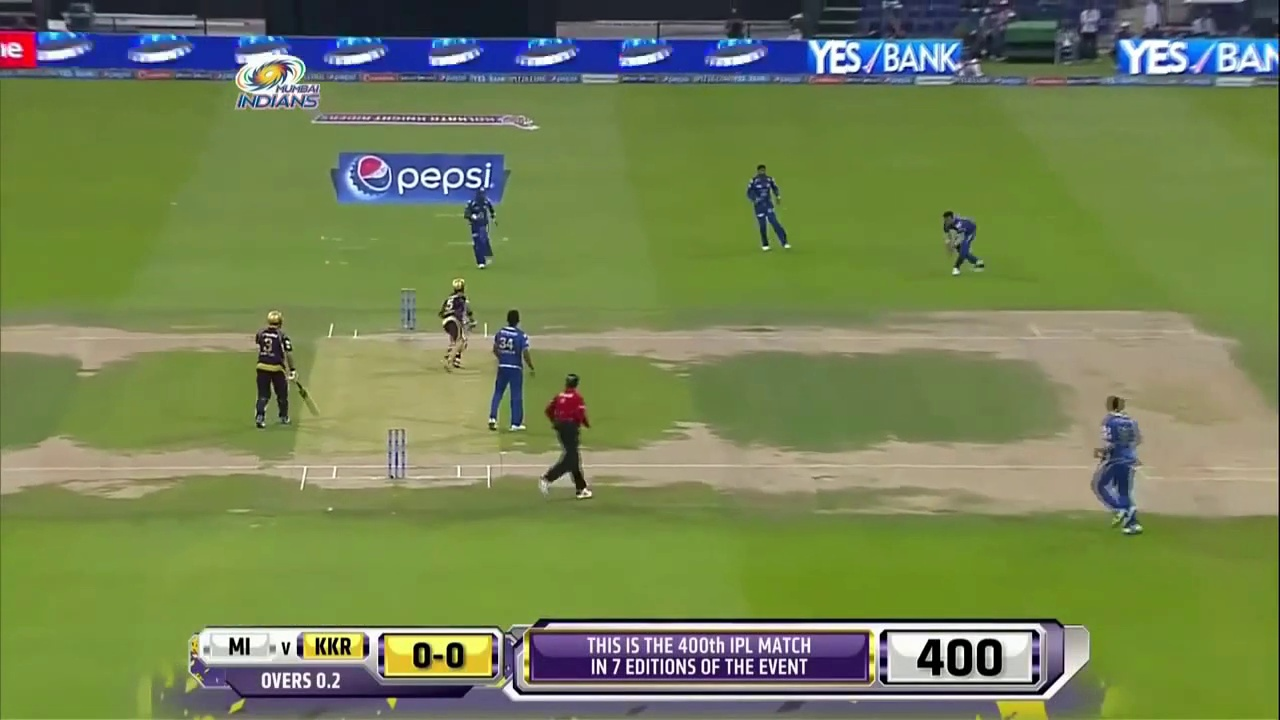bat: (295, 383, 322, 417)
stumps: (388, 427, 407, 481), (401, 286, 417, 330)
